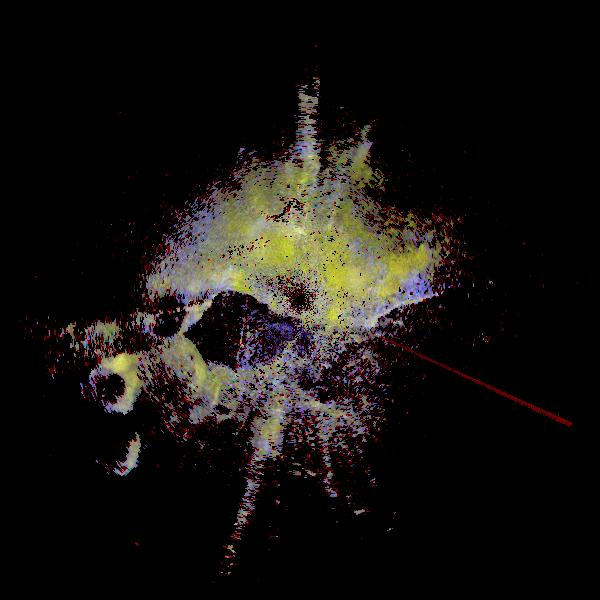roost: (77, 355, 146, 424), (321, 225, 390, 294), (83, 416, 149, 482), (148, 337, 214, 403), (249, 214, 306, 271)
